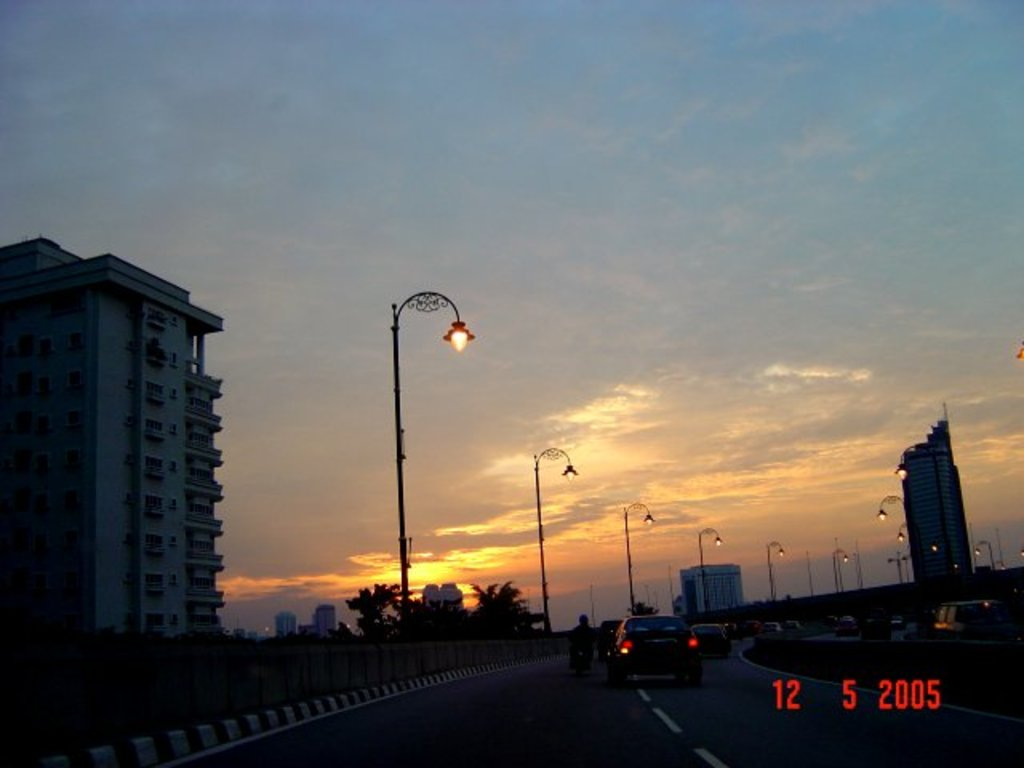Tree: (470, 579, 537, 638), (393, 591, 475, 639), (348, 584, 403, 638), (625, 598, 665, 615)
